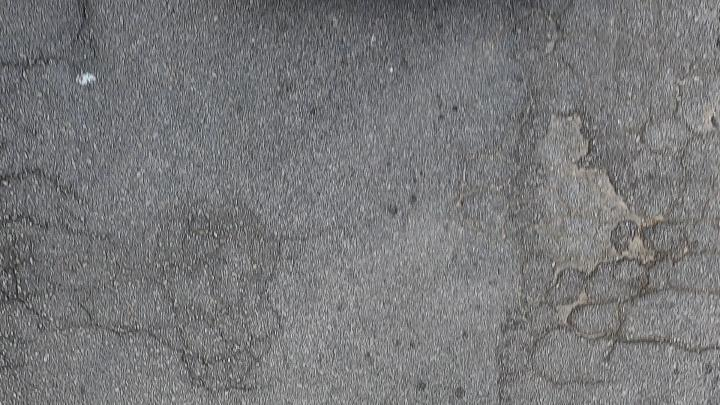Crack: (0, 161, 72, 319), (115, 318, 269, 391), (554, 290, 720, 354), (559, 290, 719, 351), (0, 0, 91, 74), (660, 73, 710, 188), (118, 326, 208, 367), (510, 0, 578, 53), (671, 80, 705, 183), (633, 216, 697, 270), (514, 0, 572, 52), (0, 252, 43, 320), (0, 168, 70, 198), (640, 242, 689, 271), (0, 51, 55, 73), (0, 212, 48, 229), (71, 0, 89, 45), (237, 338, 268, 360), (645, 217, 690, 228), (225, 376, 254, 391)
